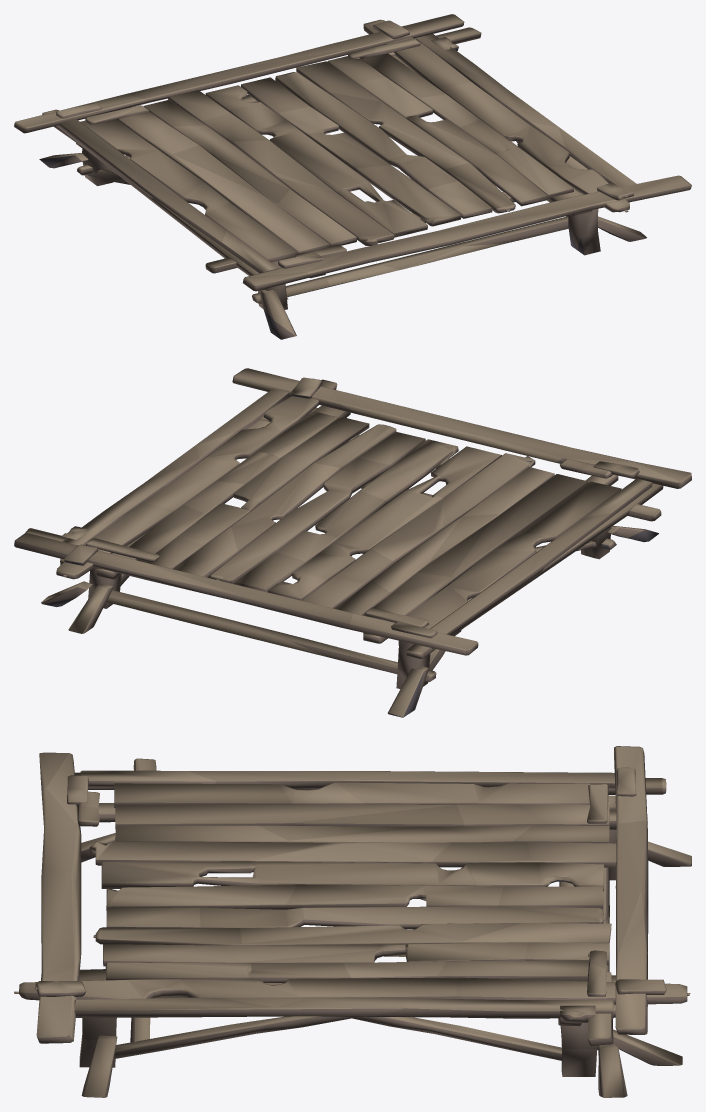
File: platform.glb
3 renders of one model, top to bottom at view 1: azimuth 30°, elevation 25°; view 2: azimuth 150°, elevation 25°; view 3: azimuth 270°, elevation 25°, orthographic. The views are drawn at different scales.
Parts seen in each view (by area): view 1: Smart_platform; view 2: Smart_platform; view 3: Smart_platform.
Boxes of the visible parts, x1,y1,x2,y2 form: Smart_platform: [14, 14, 691, 339]; Smart_platform: [14, 368, 691, 717]; Smart_platform: [14, 746, 691, 1097].
Bounding box in the file's own units: 7 × 1 × 7.
